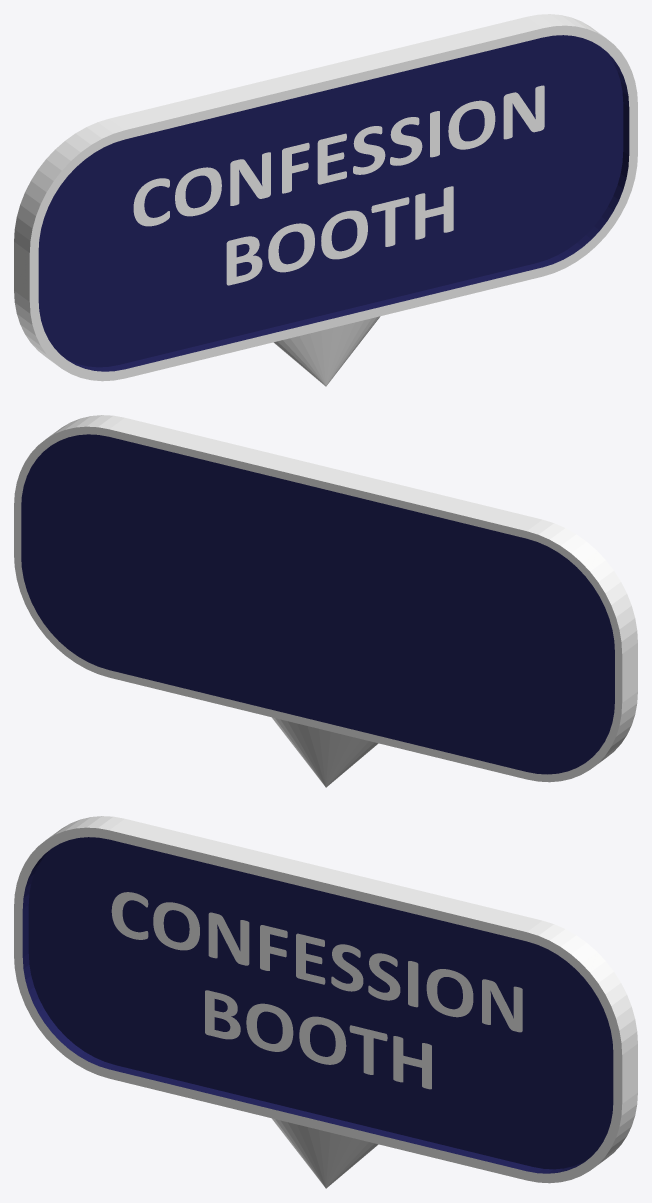
Rendered from ConfessionBoothHoverd.glb.
3 views of the same model, one above another, from view 1: azimuth 30°, elevation 25°; view 2: azimuth 150°, elevation 25°; view 3: azimuth 330°, elevation 25° (orthographic).
Visible parts, largest first — view 1: 立方体, 文本, 立方体.001, 立方体.002, 立方体.004; view 2: 立方体, 立方体.003, 立方体.002, 立方体.004; view 3: 立方体, 文本, 立方体.001, 立方体.002, 立方体.004.
Boxes of the visible parts, x1,y1,x2,y2 form: 立方体: (38, 35, 629, 371); 文本: (133, 85, 544, 285); 立方体.001: (29, 25, 637, 381); 立方体.002: (14, 14, 603, 366); 立方体.004: (273, 316, 380, 386); 立方体: (21, 434, 614, 774); 立方体.003: (14, 426, 622, 782); 立方体.002: (48, 415, 637, 767); 立方体.004: (271, 717, 378, 787); 立方体: (22, 837, 613, 1173); 文本: (111, 892, 522, 1089); 立方体.001: (14, 827, 622, 1183); 立方体.002: (48, 816, 637, 1168); 立方体.004: (271, 1118, 378, 1188).
Bounding box in the file's own units: 5.13 × 2.52 × 0.2745.
